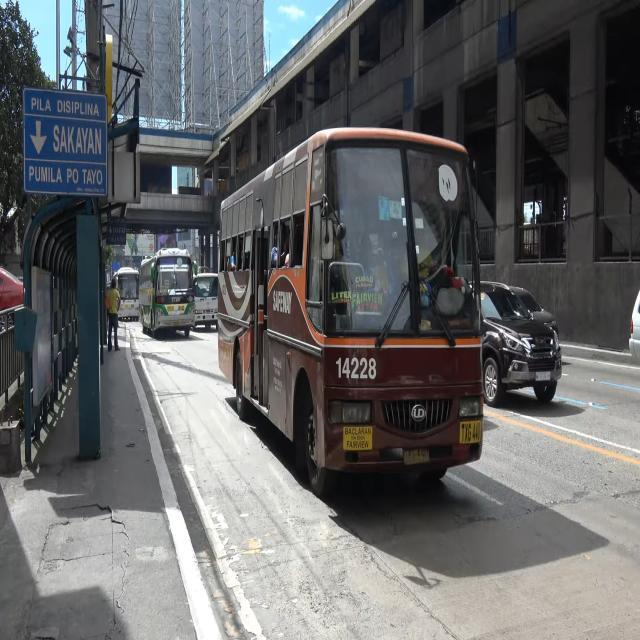bus: (218, 124, 484, 497), (138, 245, 194, 339), (116, 268, 140, 326)
car: (480, 274, 562, 416), (507, 278, 557, 339)
truck: (192, 272, 220, 334)
